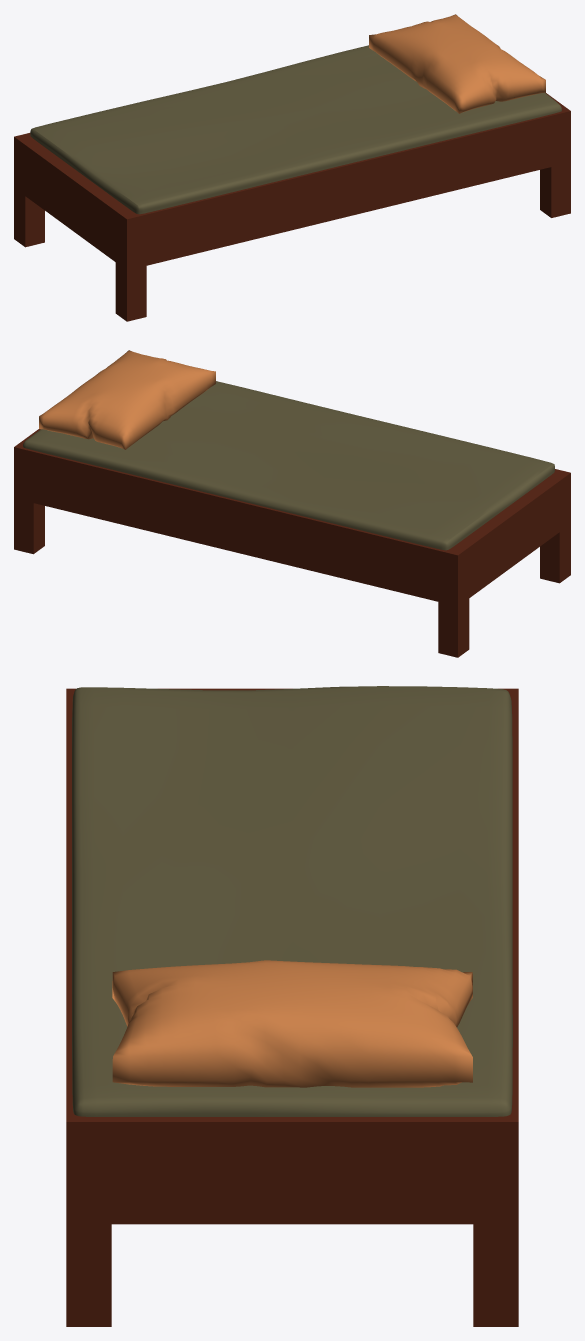
The model's file is bed.obj.
3 views of the same model, one above another, from view 1: azimuth 30°, elevation 25°; view 2: azimuth 150°, elevation 25°; view 3: azimuth 270°, elevation 25° (orthographic). The views are drawn at different scales.
Parts seen in each view (by area): view 1: Cube.005, Cube.001, Cube.006; view 2: Cube.005, Cube.001, Cube.006; view 3: Cube.005, Cube.001, Cube.006.
Part boxes in pixels (x1,y1,x2,y2): Cube.005: (30,45,561,214); Cube.001: (14,92,570,321); Cube.006: (369,14,545,113); Cube.005: (23,381,554,550); Cube.001: (14,429,570,657); Cube.006: (39,350,215,449); Cube.005: (72,686,512,1116); Cube.001: (66,688,518,1326); Cube.006: (112,960,472,1087).
Bounding box in the file's own units: 2.27 × 0.705 × 1.
